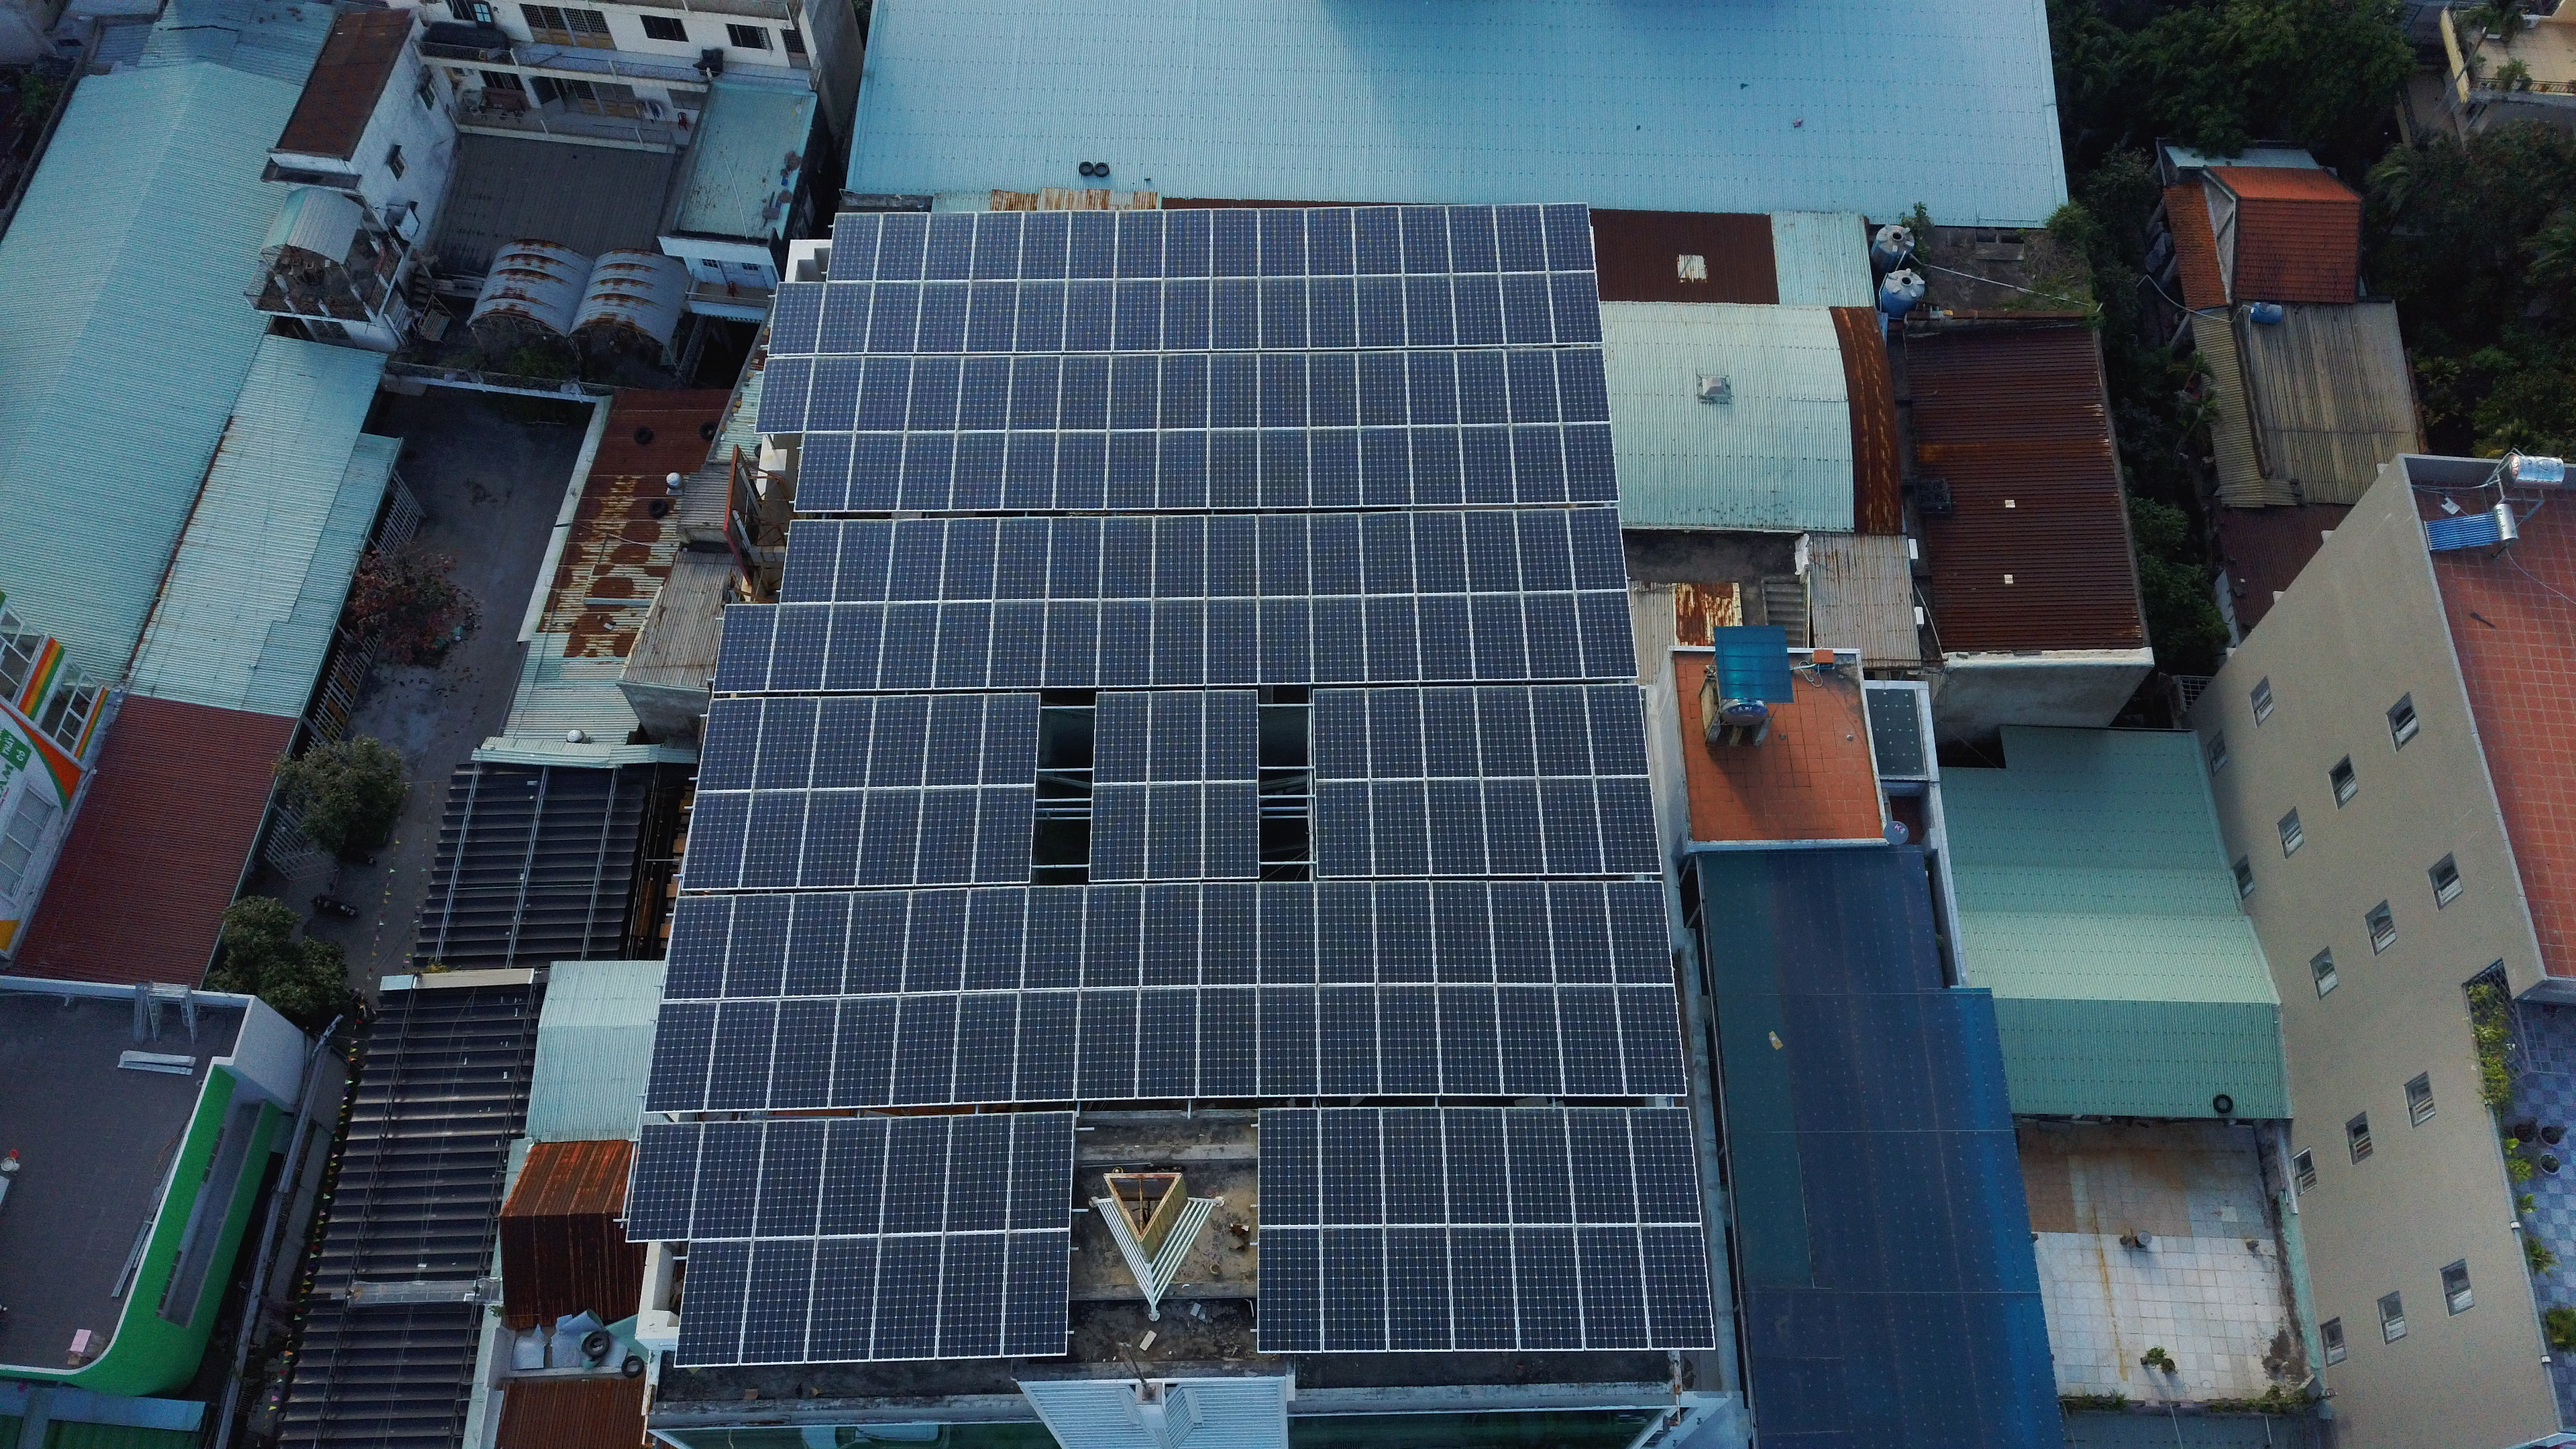solar: (671, 1237, 754, 1371), (741, 1238, 819, 1366), (805, 1235, 883, 1362), (865, 1233, 943, 1361), (931, 1231, 1008, 1359), (998, 1228, 1072, 1357), (996, 1226, 1070, 1355), (1320, 1221, 1394, 1350), (1382, 1224, 1456, 1353), (1637, 1221, 1711, 1350), (640, 1000, 722, 1116), (1445, 1224, 1520, 1352), (1571, 1224, 1645, 1352), (1514, 1226, 1587, 1355), (626, 1122, 706, 1238), (1000, 1230, 1072, 1357), (1251, 1223, 1323, 1350), (688, 1122, 766, 1240), (766, 994, 842, 1111), (752, 1118, 828, 1235), (1629, 1106, 1702, 1224), (722, 892, 798, 1003), (704, 1000, 780, 1111), (819, 1118, 890, 1235), (1007, 1115, 1077, 1231), (1445, 1106, 1516, 1223), (1318, 1111, 1389, 1226), (945, 1116, 1014, 1233), (1575, 1104, 1644, 1221), (784, 892, 858, 1000), (660, 897, 736, 1001), (883, 1118, 952, 1233), (1258, 1113, 1327, 1228), (1385, 1108, 1454, 1223), (1506, 1106, 1575, 1221), (1619, 985, 1691, 1093), (1617, 984, 1690, 1092), (855, 789, 927, 892), (830, 989, 893, 1106), (892, 989, 955, 1106), (952, 985, 1016, 1102), (1014, 985, 1077, 1102), (1076, 980, 1139, 1097), (1136, 980, 1200, 1097), (1200, 978, 1263, 1095), (1261, 977, 1325, 1093), (1322, 977, 1385, 1093), (1380, 977, 1444, 1093), (1440, 978, 1504, 1095), (1502, 975, 1566, 1092), (796, 787, 869, 888), (916, 786, 989, 886), (1608, 878, 1675, 985), (1559, 984, 1624, 1093), (679, 791, 750, 890), (694, 697, 766, 793), (809, 697, 881, 793), (842, 886, 906, 994), (1023, 881, 1086, 989), (1083, 881, 1146, 989), (1200, 879, 1263, 987), (1316, 878, 1380, 985), (1552, 874, 1615, 982), (738, 793, 809, 888), (902, 888, 966, 994), (961, 886, 1024, 993), (1139, 879, 1203, 985), (1258, 879, 1322, 985), (1376, 878, 1440, 984), (1435, 876, 1499, 982), (1495, 876, 1559, 982), (752, 695, 821, 791), (1596, 773, 1660, 874), (711, 603, 782, 694), (971, 782, 1031, 885), (766, 603, 837, 690), (1311, 775, 1369, 879), (1488, 771, 1546, 876), (1543, 771, 1601, 876), (1145, 778, 1203, 881), (1207, 775, 1265, 878), (1371, 775, 1430, 878), (1430, 775, 1488, 878), (869, 694, 932, 787), (980, 695, 1044, 789), (1201, 690, 1265, 784), (1476, 686, 1539, 780), (1530, 683, 1594, 777), (1086, 782, 1146, 881), (1146, 692, 1210, 784), (924, 695, 985, 789), (1090, 690, 1152, 784), (1366, 686, 1428, 780), (1585, 686, 1647, 780), (821, 602, 886, 690), (932, 602, 998, 690), (878, 602, 941, 692), (1307, 688, 1369, 780), (1421, 686, 1483, 778), (1040, 600, 1104, 688), (1146, 600, 1210, 688), (1467, 593, 1530, 681), (1518, 591, 1582, 679), (844, 428, 909, 513), (893, 430, 959, 515), (987, 600, 1049, 688), (1095, 600, 1157, 688), (1200, 598, 1261, 686), (1256, 598, 1318, 686), (1309, 594, 1371, 683), (1359, 594, 1421, 683), (1414, 596, 1476, 685), (1575, 593, 1637, 681), (950, 426, 1010, 517), (817, 207, 883, 288), (810, 278, 876, 359), (803, 354, 869, 435), (793, 433, 858, 515), (832, 520, 897, 602), (886, 518, 952, 600), (1148, 513, 1208, 602), (1203, 511, 1263, 600), (1256, 511, 1316, 600), (1307, 510, 1368, 598), (1357, 508, 1417, 596), (1408, 510, 1468, 598), (1461, 504, 1522, 593), (780, 520, 844, 602), (1518, 506, 1576, 594), (1568, 504, 1626, 593), (1099, 517, 1161, 600), (1000, 430, 1060, 513), (1460, 426, 1520, 510), (941, 517, 1001, 600), (993, 517, 1053, 600), (1044, 518, 1104, 602), (855, 356, 916, 435), (913, 278, 975, 357), (1509, 425, 1568, 508), (1560, 423, 1619, 506), (904, 354, 966, 432), (766, 278, 826, 357), (863, 278, 924, 357), (957, 352, 1016, 433), (1007, 352, 1065, 433), (1053, 354, 1111, 435), (1104, 352, 1162, 433), (1152, 352, 1210, 433), (1201, 350, 1260, 432), (1251, 350, 1309, 432), (755, 352, 816, 430), (1454, 347, 1511, 428), (872, 207, 929, 287), (1159, 278, 1215, 357), (1207, 278, 1263, 357), (1253, 276, 1309, 356), (1304, 274, 1361, 354), (1355, 272, 1412, 352), (1499, 269, 1555, 349), (1548, 269, 1605, 349), (1307, 347, 1362, 428), (1355, 347, 1410, 428), (1407, 349, 1461, 430), (1555, 343, 1610, 425), (1056, 430, 1109, 513), (1106, 428, 1159, 511), (1155, 430, 1208, 513), (1207, 428, 1260, 511), (1258, 428, 1311, 511), (1309, 426, 1362, 510), (1361, 426, 1414, 510), (1412, 425, 1465, 508), (1010, 280, 1067, 357), (1060, 280, 1116, 357), (1401, 272, 1458, 350), (1451, 274, 1507, 352), (1207, 203, 1261, 283), (1507, 345, 1562, 425), (922, 211, 980, 285), (1016, 209, 1074, 283), (1109, 207, 1168, 281), (1256, 202, 1311, 280), (1306, 205, 1361, 283), (1396, 203, 1451, 281), (1495, 200, 1550, 278), (1541, 196, 1596, 274), (966, 280, 1021, 357), (1108, 280, 1162, 357), (970, 209, 1026, 283), (1063, 209, 1120, 283), (1159, 203, 1215, 278), (1445, 202, 1499, 280), (1352, 203, 1399, 272)
